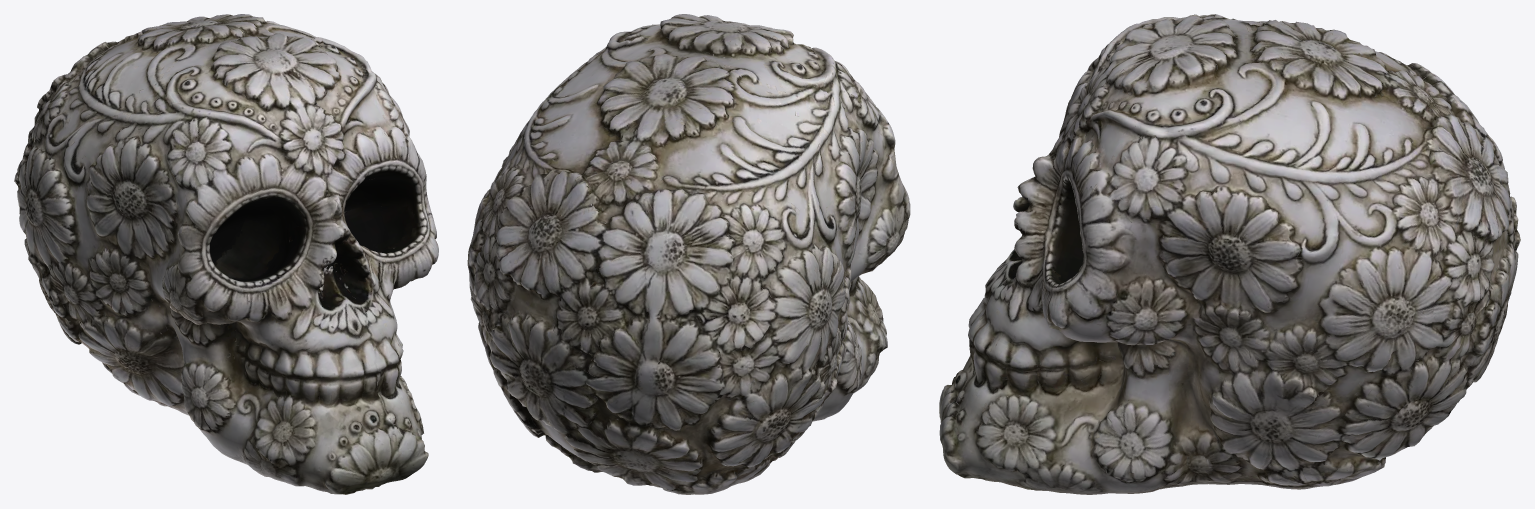
The model's file is skull-transformed.glb.
3 views of the same model, side by side, from view 1: azimuth 30°, elevation 25°; view 2: azimuth 150°, elevation 25°; view 3: azimuth 270°, elevation 25° (orthographic). The views are drawn at different scales.
Visible parts, largest first — view 1: Object_2; view 2: Object_2; view 3: Object_2.
Boxes of the visible parts, x1=… form: Object_2: x1=14, y1=14, x2=438, y2=494; Object_2: x1=467, y1=14, x2=910, y2=494; Object_2: x1=939, y1=14, x2=1520, y2=494.
Bounding box in the file's own units: 1.91 × 2.15 × 2.69.
Materials: 1 (1 with a texture image).
